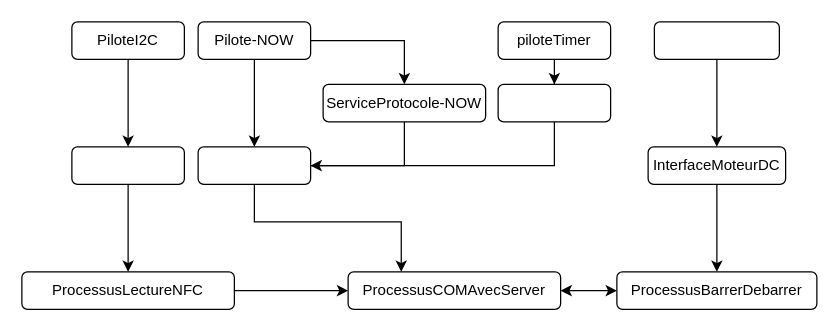
This 839x331 diagram has some shape labels left out. The centre of each missing label's shape, as x and y in pixels:
"Interface-NOW" goes at [254,165].
"InterfaceI2C" goes at [127,165].
"PiloteMoteurDC" goes at [716,40].
"Service de base de temps" goes at [554,102].
